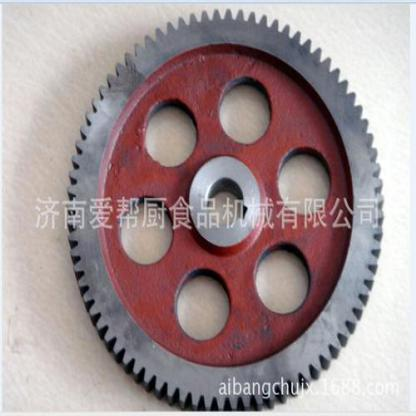FOD: (65, 1, 389, 415)
